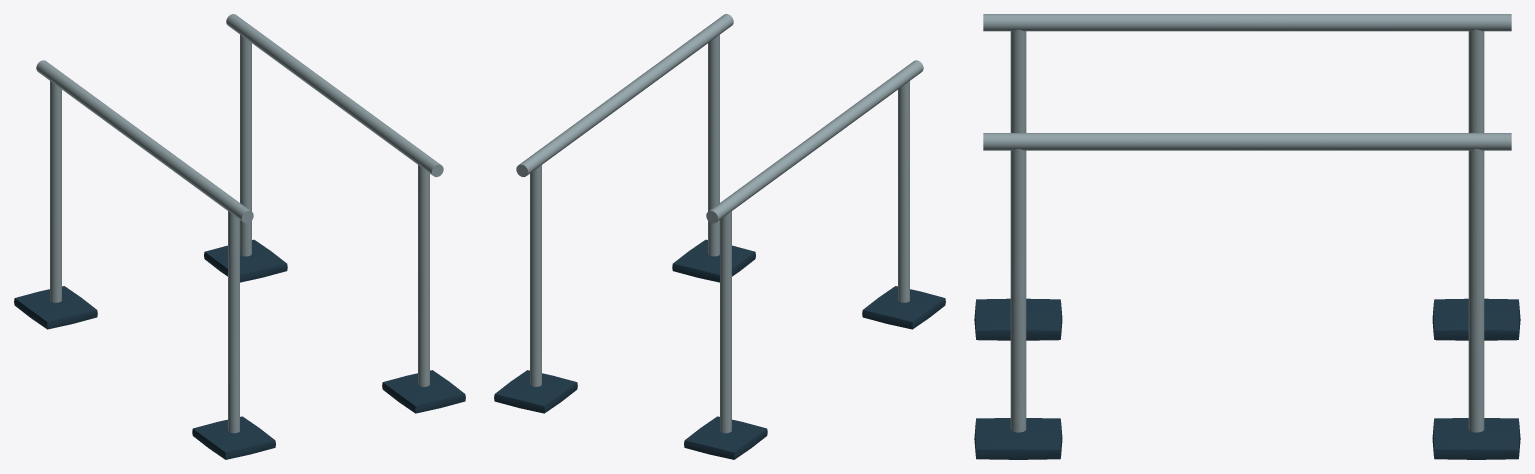
File: parallel-bars.glb
The picture shows the model from 3 angles, left to right: view 1: azimuth 30°, elevation 25°; view 2: azimuth 150°, elevation 25°; view 3: azimuth 270°, elevation 25°; orthographic projection. The views are drawn at different scales.
Parts seen in each view (by area): view 1: parallel-bars; view 2: parallel-bars; view 3: parallel-bars.
Part boxes in pixels (bbox=[...]): parallel-bars: bbox=[14, 14, 465, 459]; parallel-bars: bbox=[494, 14, 945, 459]; parallel-bars: bbox=[974, 14, 1520, 459].
Size of the model in its own units: 1.02 by 0.975 by 1.55.
Materials: 10 (10 with a texture image).
